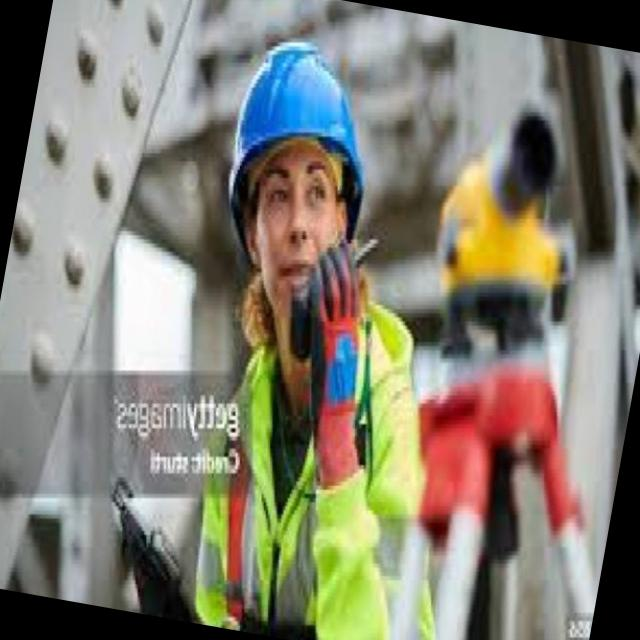gloved: (265, 225, 404, 494)
